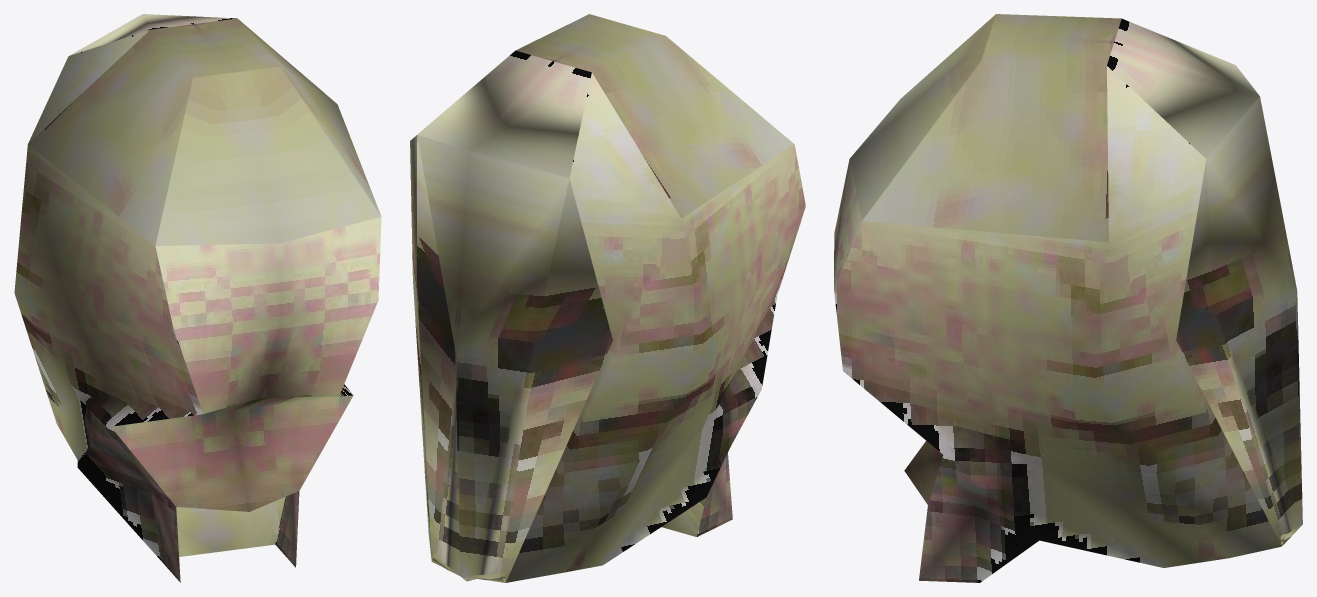
File: skull.glb
3 renders of one model, left to right at view 1: azimuth 30°, elevation 25°; view 2: azimuth 150°, elevation 25°; view 3: azimuth 270°, elevation 25°, orthographic. The views are drawn at different scales.
Parts seen in each view (by area): view 1: skull; view 2: skull; view 3: skull.
Part boxes in pixels (<box>): skull: <box>14,14,381,582</box>; skull: <box>410,14,805,582</box>; skull: <box>834,14,1302,582</box>.
Bounding box in the file's own units: 0.3792 × 0.5671 × 0.4517.
Materials: 1 (1 with a texture image).
